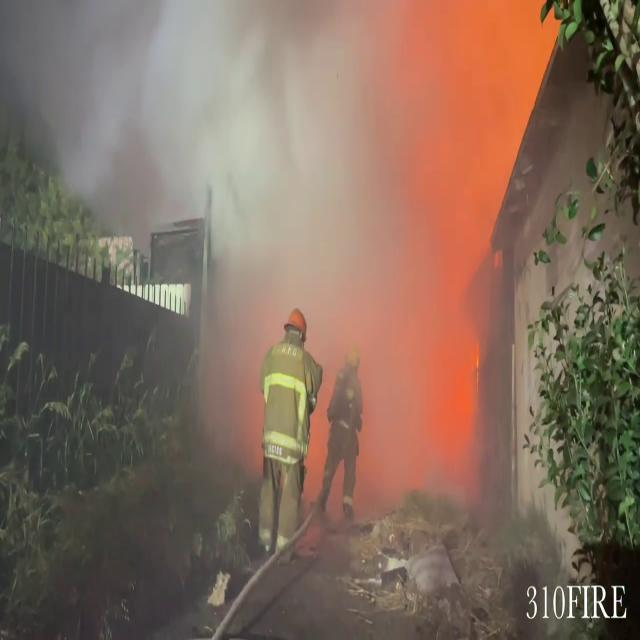Smoke: (173, 0, 542, 510)
